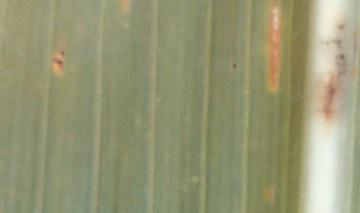tarspot: (53, 58, 64, 68), (338, 53, 346, 62), (231, 62, 238, 70), (338, 23, 345, 30), (335, 39, 342, 46), (60, 49, 66, 57), (324, 40, 331, 46)
